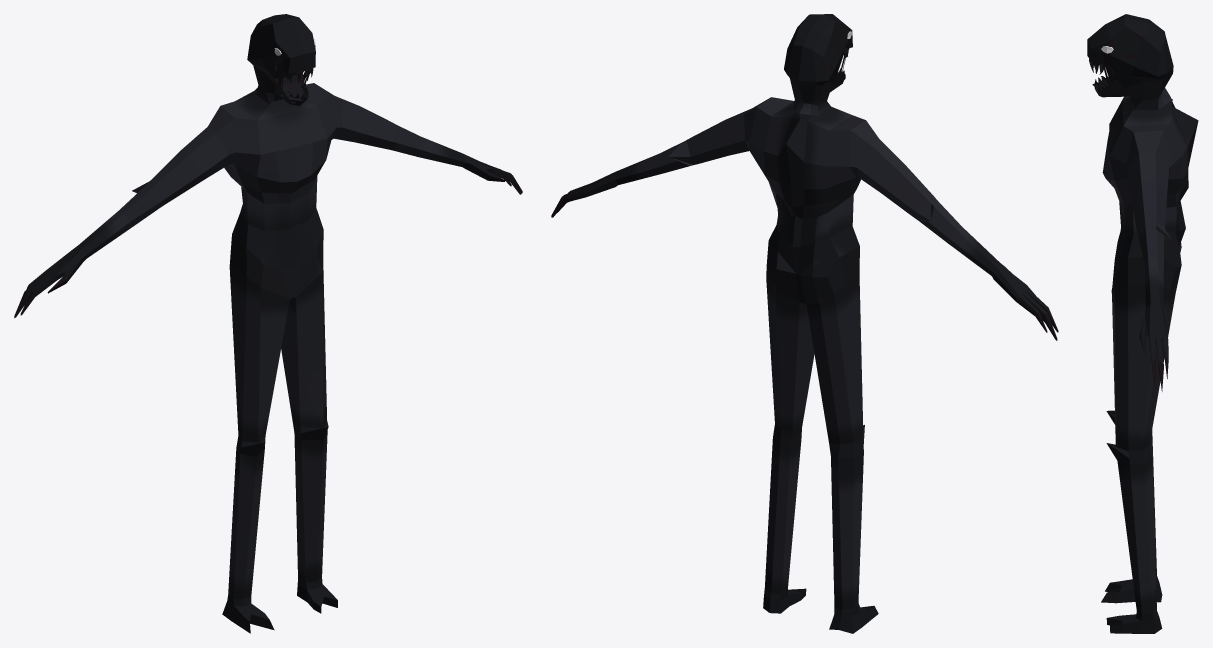
Rendered from Cheaters.fbx.
3 views of the same model, side by side, from view 1: azimuth 30°, elevation 25°; view 2: azimuth 150°, elevation 25°; view 3: azimuth 270°, elevation 25° (orthographic).
Visible parts, largest first — view 1: cheaters; view 2: cheaters; view 3: cheaters, Cube.008.
Boxes of the visible parts, x1=… form: cheaters: x1=14, y1=14, x2=522, y2=633; cheaters: x1=551, y1=14, x2=1058, y2=633; cheaters: x1=1087, y1=14, x2=1198, y2=633; Cube.008: x1=1089, y1=59, x2=1110, y2=92.
Bounding box in the file's own units: 843 × 948 × 160.
